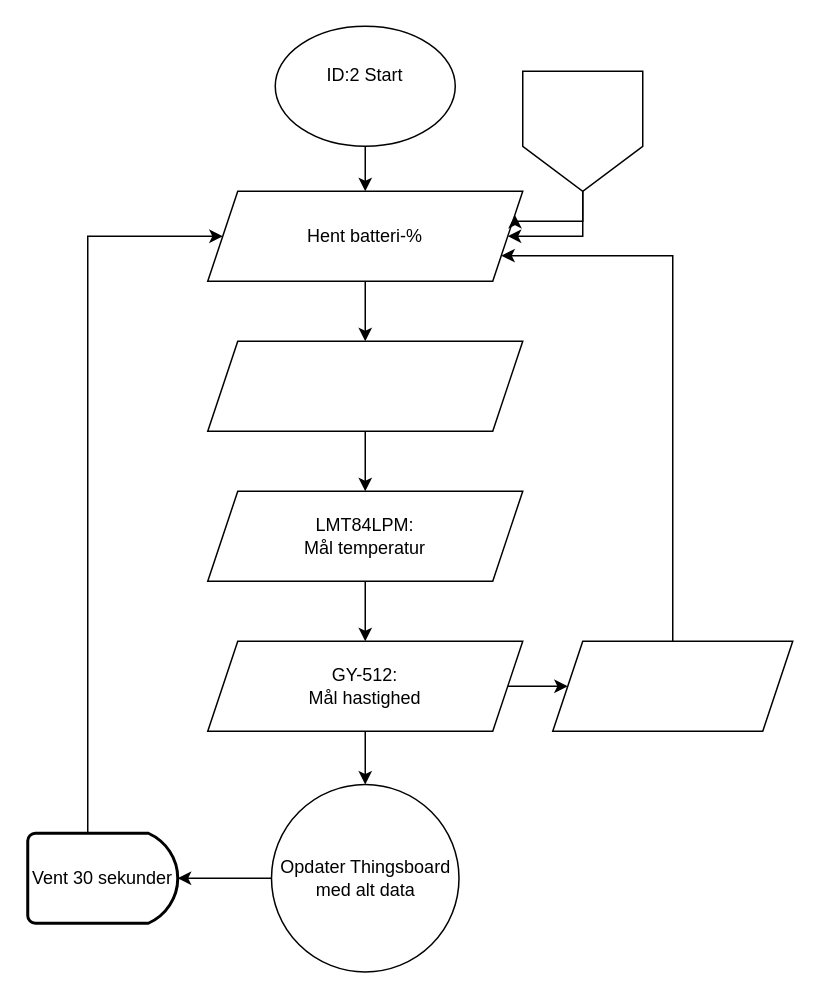
Some shapes in this 819 by 999 pixel diagram are drawn without their labels. Each missing label, with the box of its shape:
Hent GPS informationer: (Længdegrad, breddegrad, retning): (206, 340, 523, 431)
ID 1: (521, 70, 643, 191)
Opdater Display med de indhentede data: (551, 640, 793, 731)
